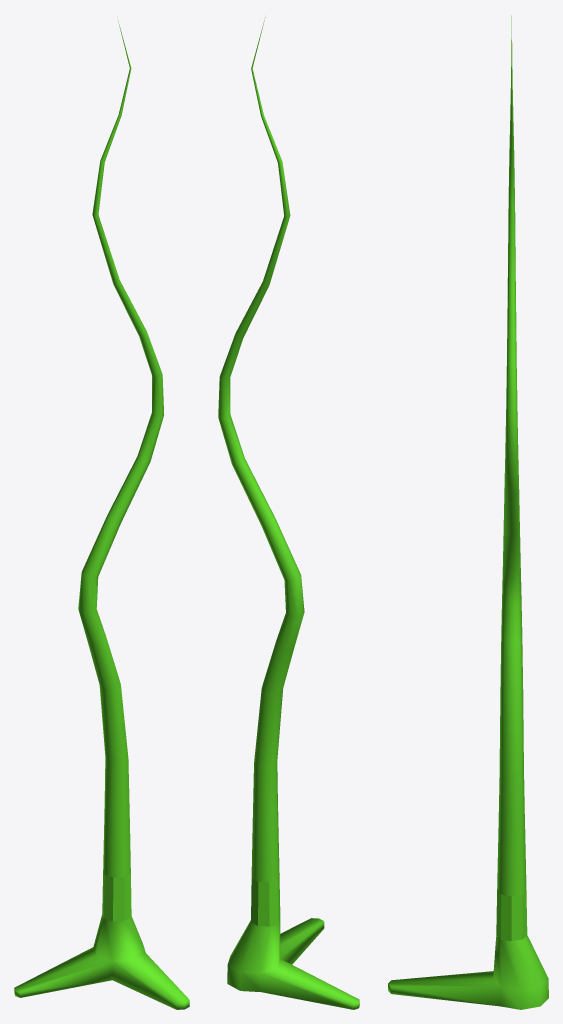
File: MagicPlant.fbx
The picture shows the model from 3 angles, left to right: view 1: azimuth 30°, elevation 25°; view 2: azimuth 150°, elevation 25°; view 3: azimuth 270°, elevation 25°; orthographic projection. The views are drawn at different scales.
Parts seen in each view (by area): view 1: BezierCurve.001; view 2: BezierCurve.001; view 3: BezierCurve.001.
Part boxes in pixels (<box>): BezierCurve.001: <box>14,20,189,1009</box>; BezierCurve.001: <box>218,17,359,1009</box>; BezierCurve.001: <box>388,15,548,1009</box>.
Size of the model in its own units: 16917 by 108138 by 16056.
